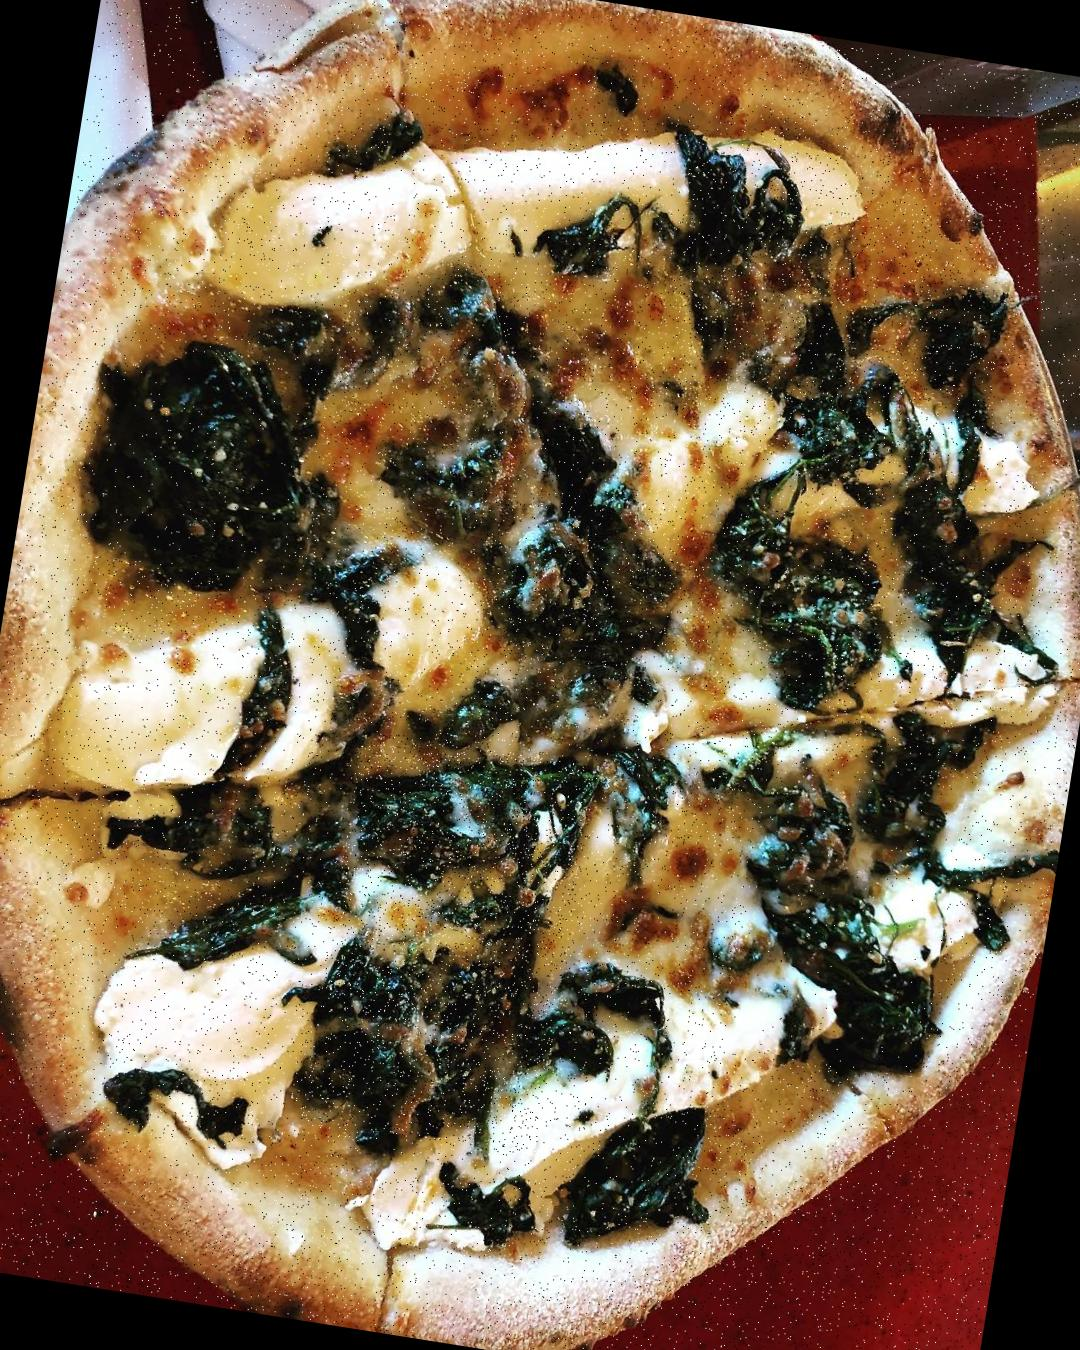Arugula: (640, 144, 1022, 487), (301, 730, 597, 1156), (723, 765, 964, 1078), (82, 341, 327, 586), (472, 487, 687, 694)
Pizza: (0, 0, 1080, 1350)
